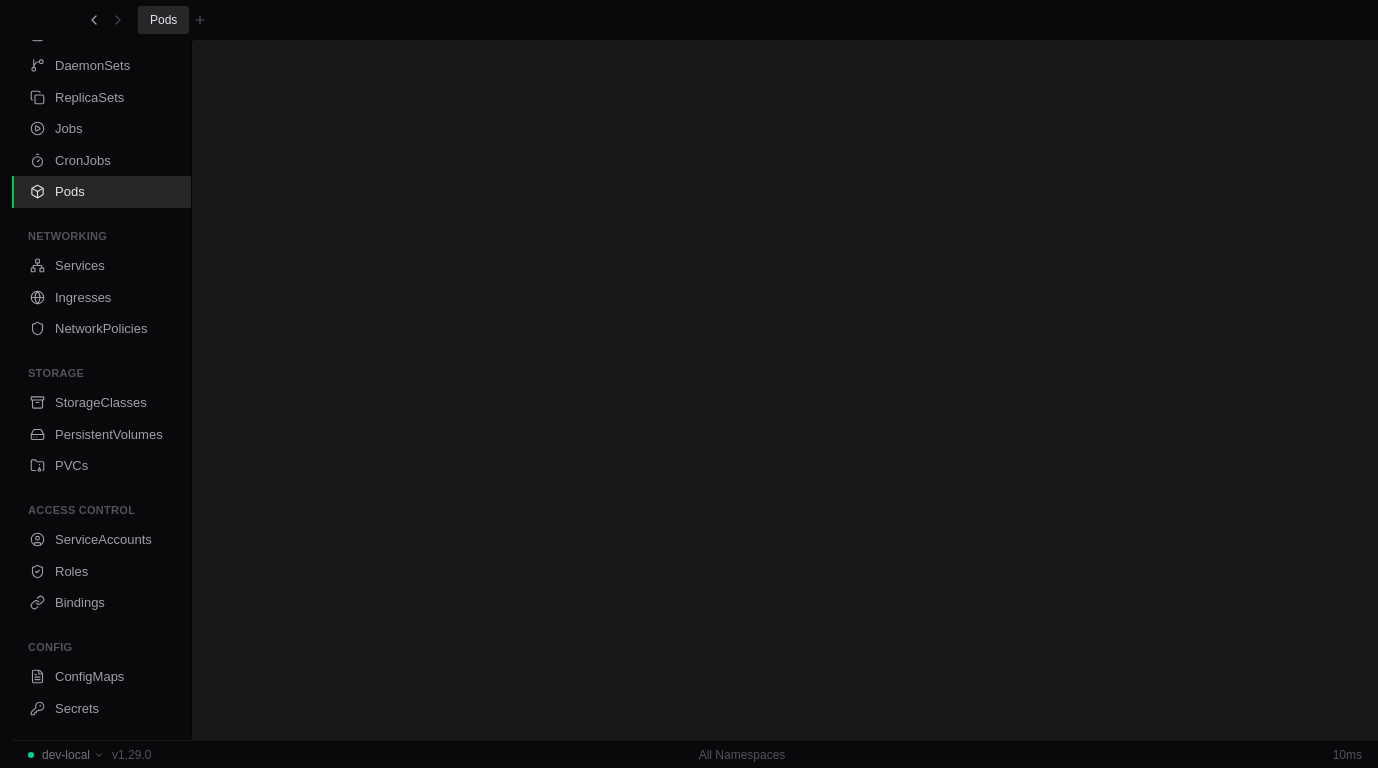
Scenario: SecretDetailView › reveals value when clicking the eye icon
(page scrolled)
Click the button "Secrets" at (102, 708), box [12,692,191,724]
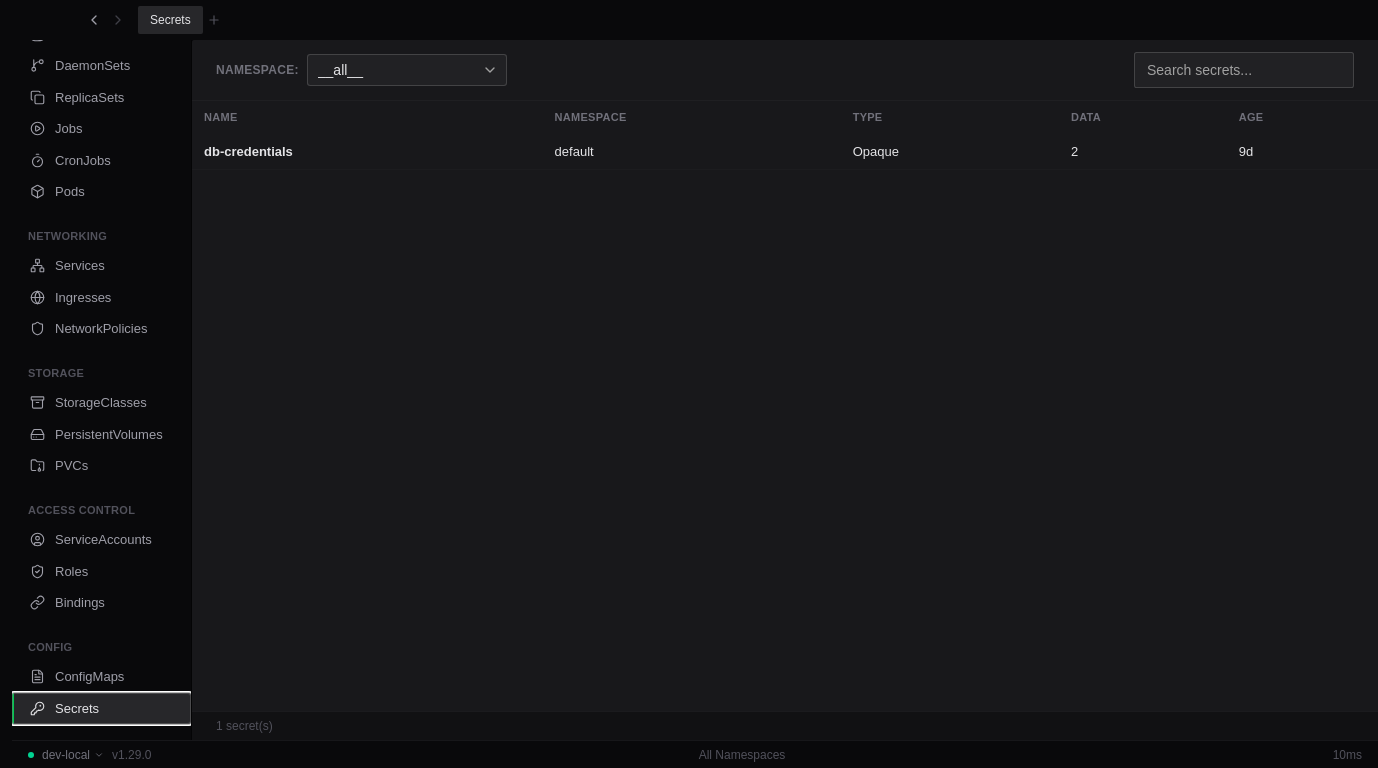
Expected: the text "db-credentials" is shown
Click the text "db-credentials" at (367, 152), box [192,134,543,170]
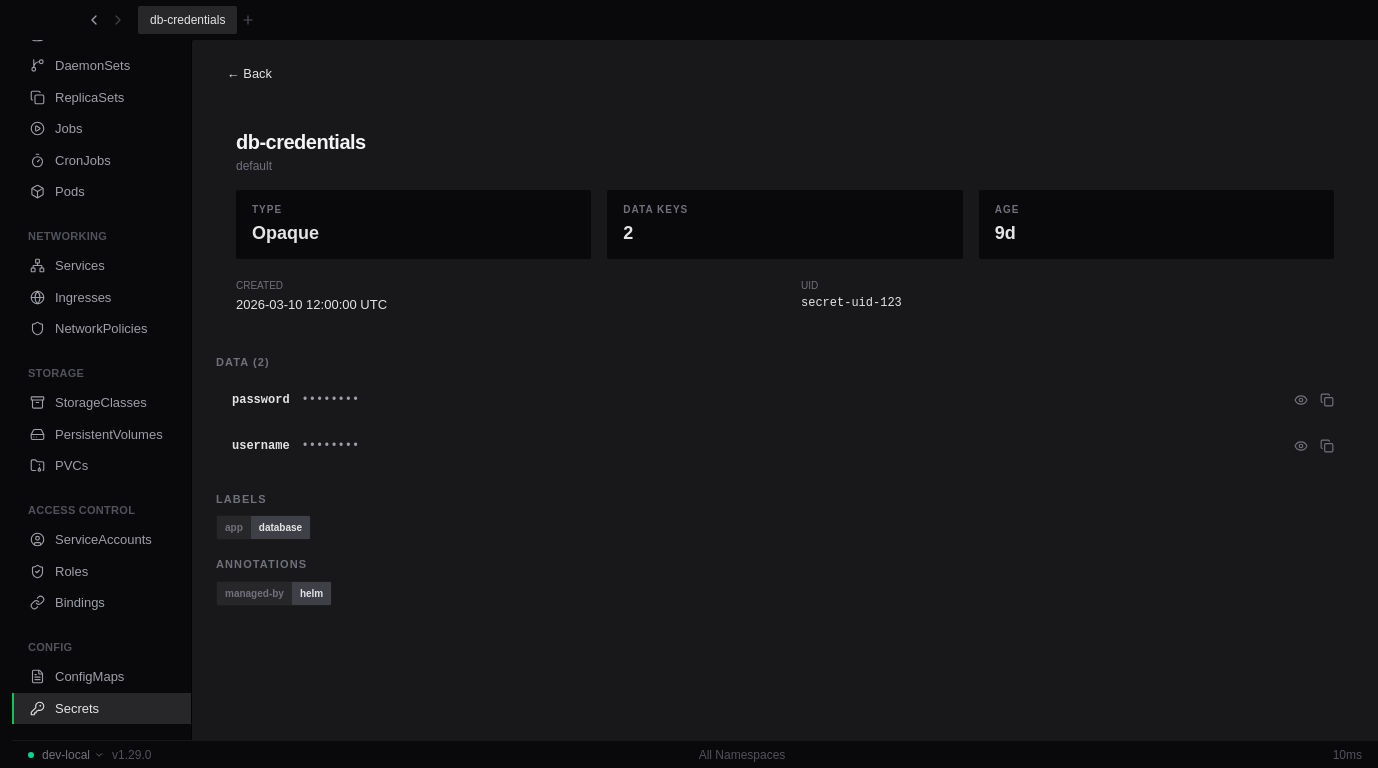
Expected: the text "username" is shown, [232,438,290,454]
Note: Click the first reveal button (keys are sorted: password, username)
Click the button titled "Reveal value" in the row of "password" at (1301, 400), box [1290,388,1312,410]
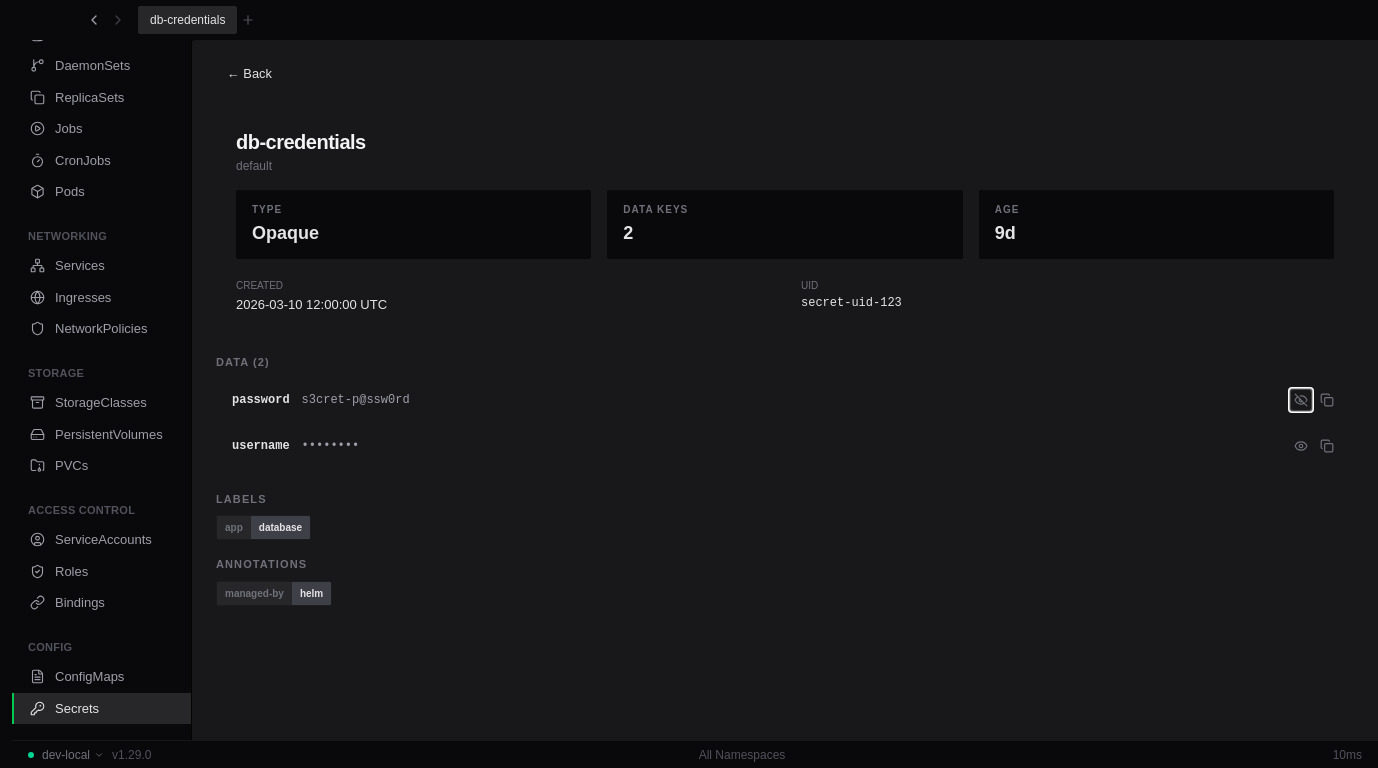
Expected: the text "s3cret-p@ssw0rd" is shown, [302,392,410,406]
